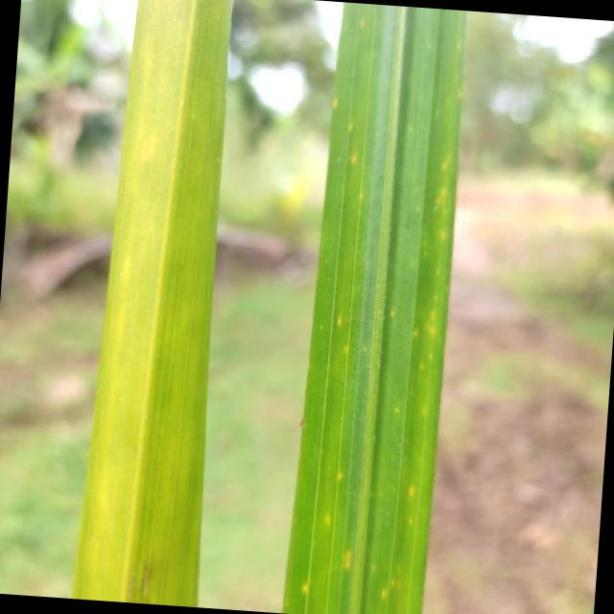nitrogen: (278, 0, 467, 614), (72, 0, 233, 614)
